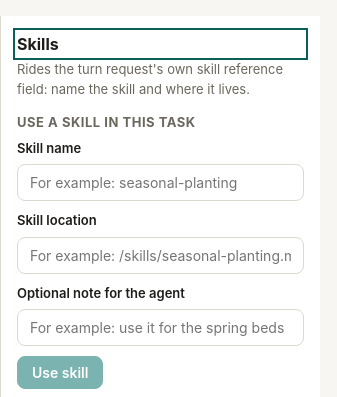
Test: the skills surface › keeps the form disabled until name and location are present
(page scrolled)
Expected: the button with test id "skill-use-button" is disabled, left=17, top=356, right=104, bottom=389
Step 1. Type "s" into the field with test id "skill-name-input" → coordinates (160, 182), box left=17, top=164, right=304, bottom=201
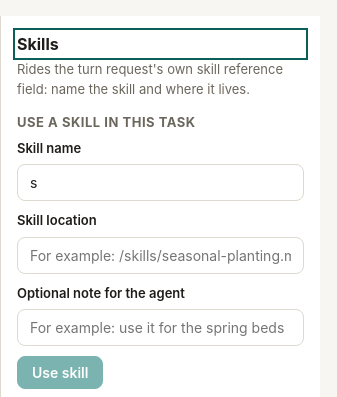
Expected: the button with test id "skill-use-button" is disabled, left=17, top=356, right=104, bottom=389
Step 2. Type "/s.md" into the field with test id "skill-path-input" → coordinates (160, 255), box left=17, top=236, right=304, bottom=274
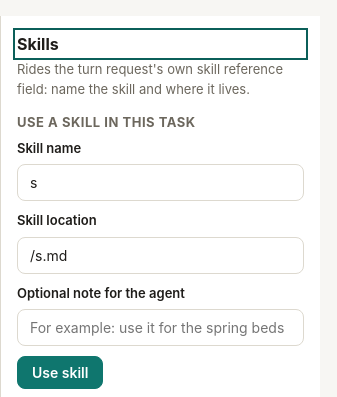
Now the button with test id "skill-use-button" is enabled, box left=17, top=356, right=104, bottom=389
